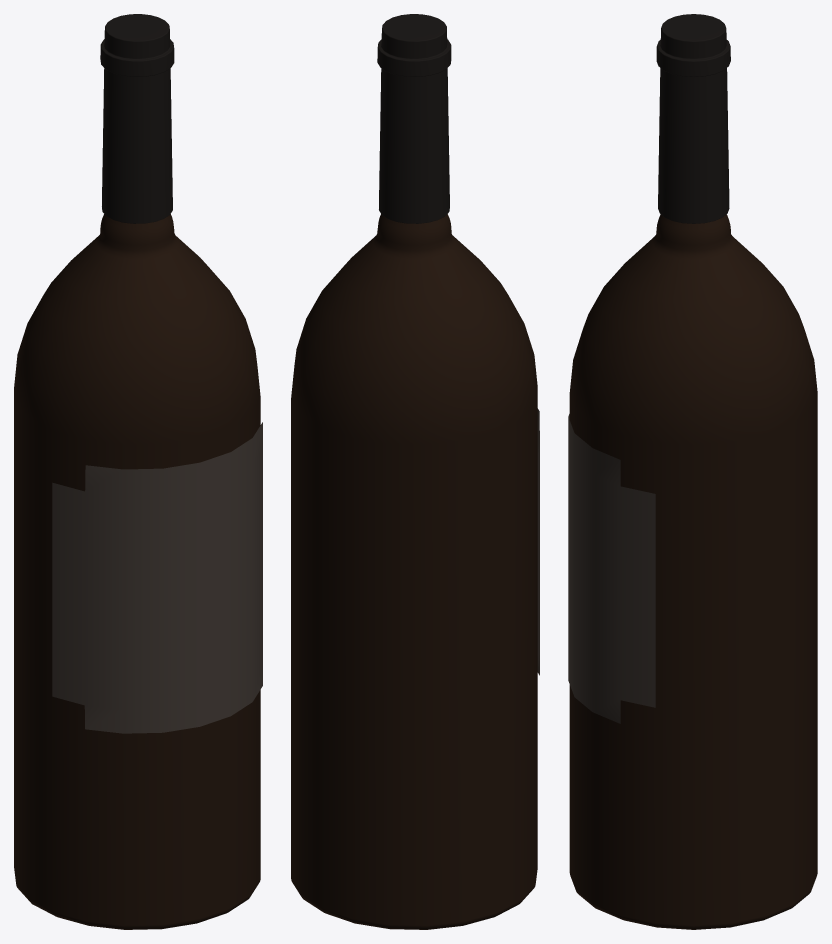
File: wineBottleWithLiquid.fbx
3 views of the same model, side by side, from view 1: azimuth 30°, elevation 25°; view 2: azimuth 150°, elevation 25°; view 3: azimuth 270°, elevation 25° (orthographic).
Visible parts, largest first — view 1: wineBottleWithLiquid; view 2: wineBottleWithLiquid; view 3: wineBottleWithLiquid.
Boxes of the visible parts, x1,y1,x2,y2 form: wineBottleWithLiquid: (14,14,262,929); wineBottleWithLiquid: (291,14,539,929); wineBottleWithLiquid: (568,14,817,929).
Bounding box in the file's own units: 8.71 × 33.08 × 8.76.
